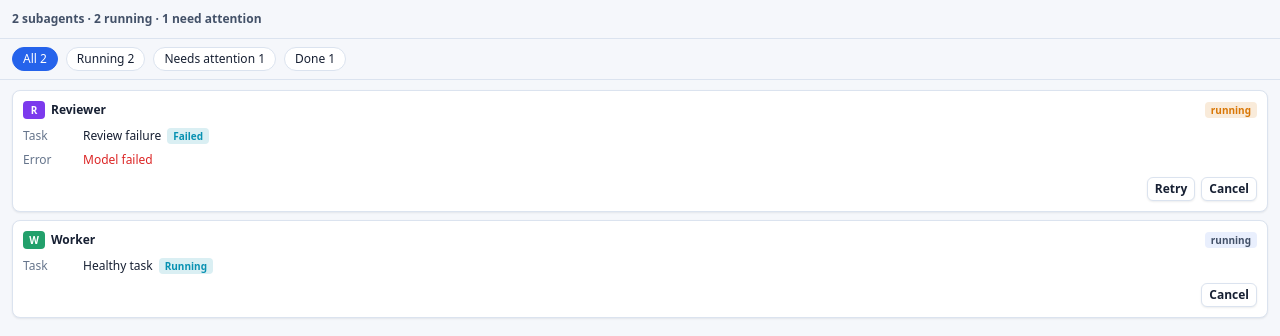
it: SubagentPanel › filters attention agents with failed or blocked bound tasks
The image size is (1280, 336).
Click the button with test id "subagent-filter-attention" at coordinates (215, 59), box [154,47,276,71]
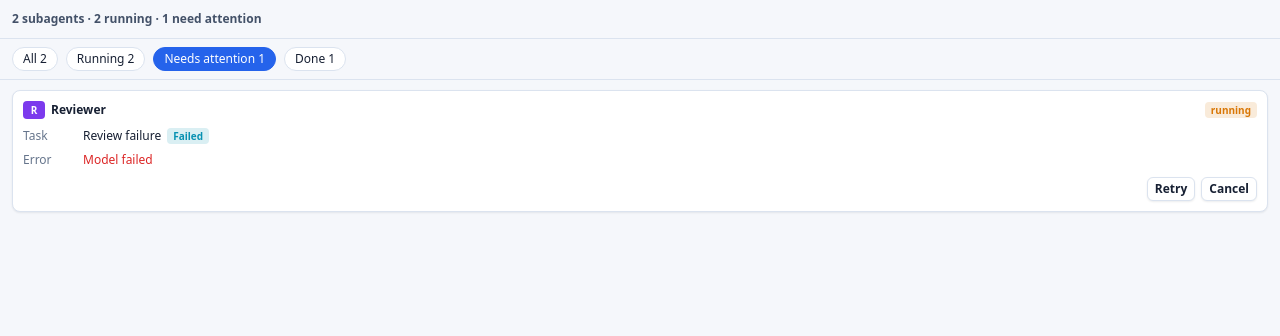
Expected: the text "Review failure" is shown, [83,127,161,145]
Now the text "Healthy task" is gone
